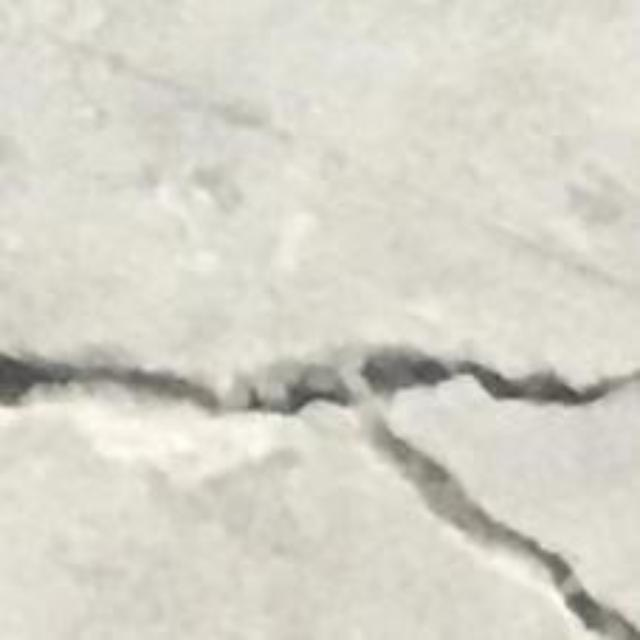crack: (0, 347, 639, 639)
